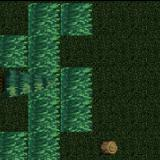Obstacle: (92, 130, 125, 160), (0, 68, 28, 99)
Slow: (28, 35, 60, 160), (28, 2, 92, 34), (61, 66, 92, 130), (0, 34, 28, 67), (0, 130, 28, 160)
